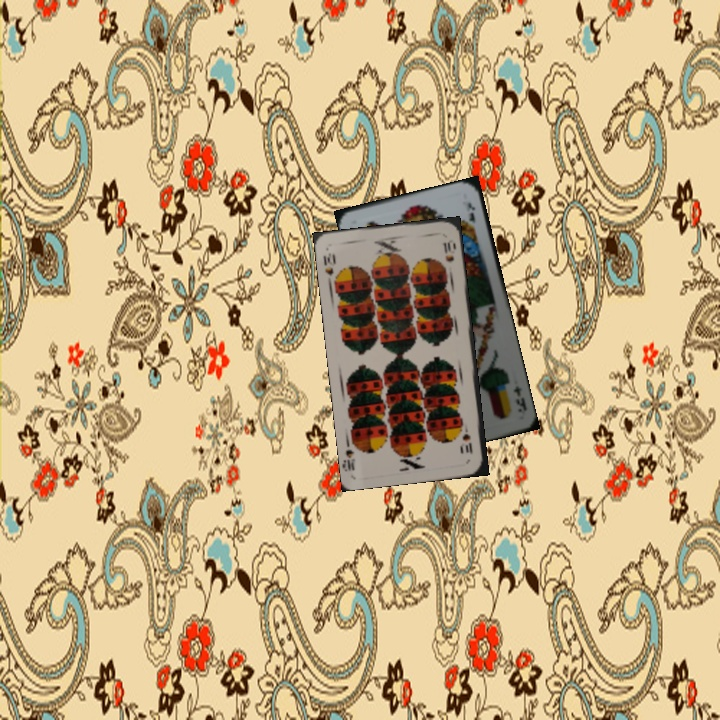EK: (509, 381, 529, 416)
S10: (319, 248, 338, 287), (459, 420, 475, 457)
